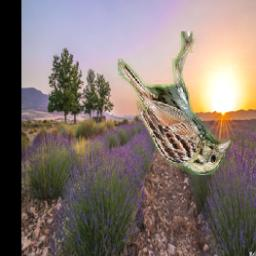Sparrow: (118, 32, 231, 176)
